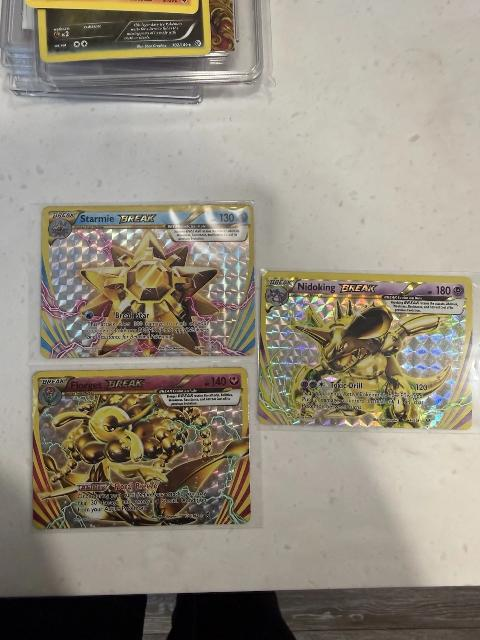Card: (29, 365, 254, 532), (253, 269, 475, 432), (36, 200, 258, 362)
Name: (66, 374, 150, 392), (78, 210, 159, 226), (296, 280, 380, 294)
